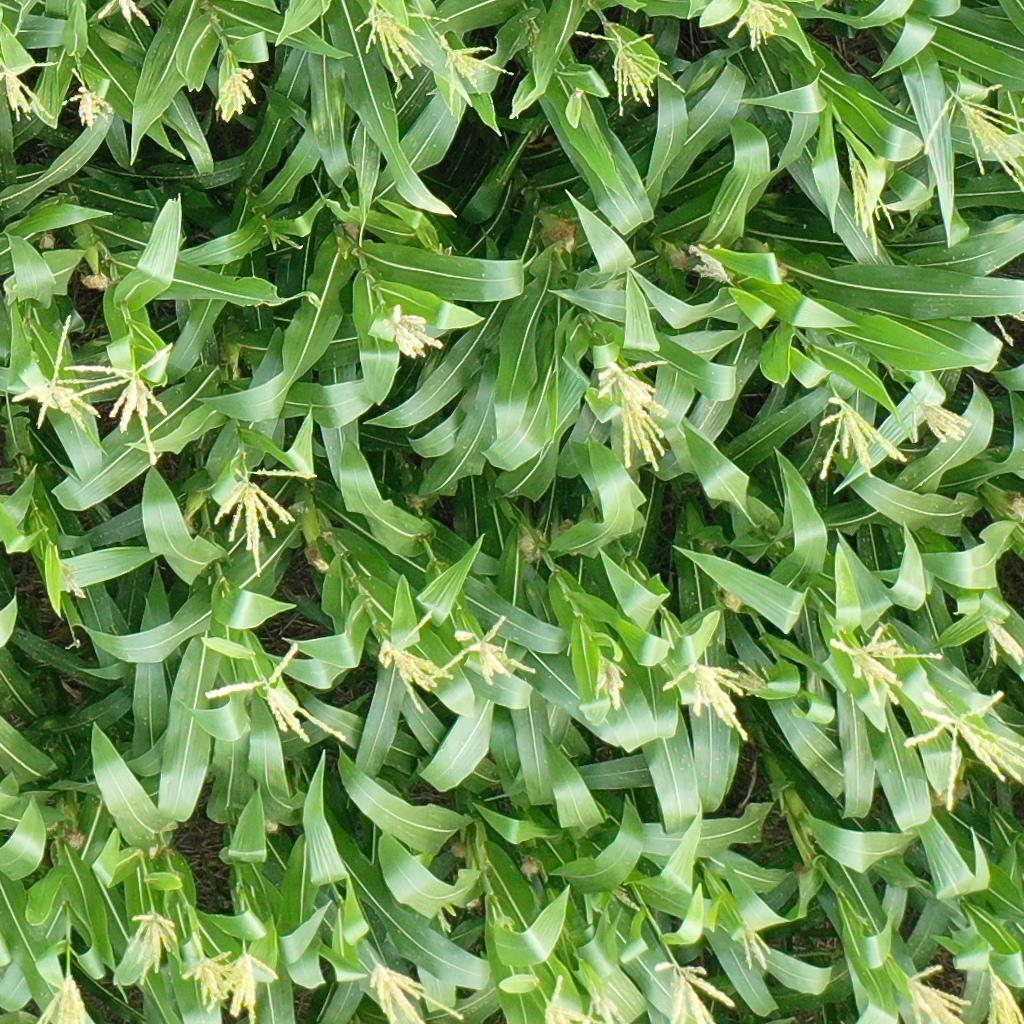Tassel: (201, 640, 350, 747), (61, 338, 180, 468), (905, 686, 1024, 812), (3, 312, 107, 432), (209, 462, 317, 575), (571, 17, 690, 117), (921, 78, 1024, 193), (592, 352, 681, 476), (825, 621, 940, 706), (814, 387, 906, 483), (373, 608, 455, 715), (354, 1, 449, 88), (657, 660, 753, 746), (451, 615, 541, 691), (365, 959, 465, 1024), (840, 143, 897, 257), (437, 33, 516, 111), (653, 957, 738, 1024), (900, 958, 975, 1024), (210, 951, 276, 1024), (905, 380, 974, 448), (1, 53, 65, 125), (180, 946, 248, 1010), (378, 301, 447, 363), (122, 911, 179, 986), (59, 66, 119, 130), (534, 971, 598, 1024), (725, 1, 792, 51), (34, 975, 96, 1024), (213, 64, 262, 123), (977, 615, 1024, 672), (684, 241, 738, 286), (984, 965, 1024, 1024), (90, 1, 156, 35), (592, 656, 631, 713), (732, 923, 776, 973), (585, 981, 625, 1024), (728, 657, 773, 695), (50, 557, 88, 599), (992, 308, 1024, 345), (610, 883, 638, 912), (433, 906, 459, 936)
